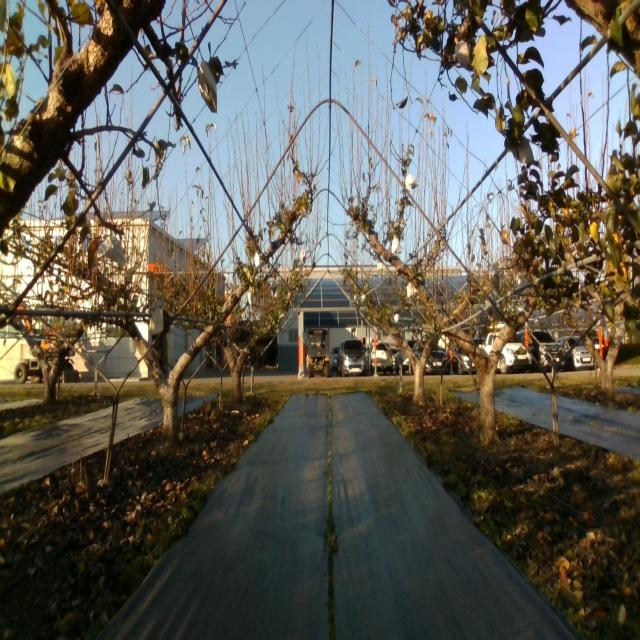pearbags: (97, 233, 126, 267), (198, 61, 217, 112), (517, 136, 535, 163), (455, 40, 471, 68), (489, 264, 500, 291)
